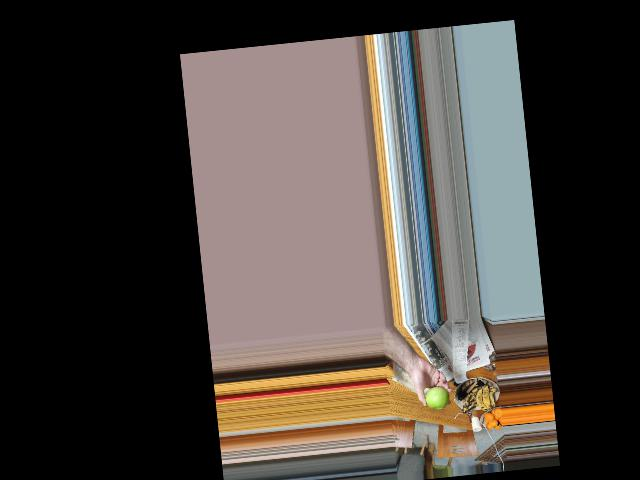apple: (421, 383, 449, 414)
